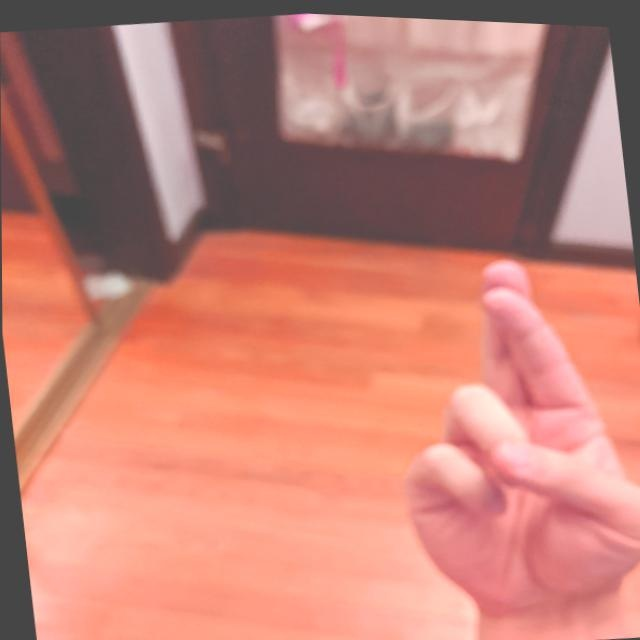R: (363, 225, 639, 623)
